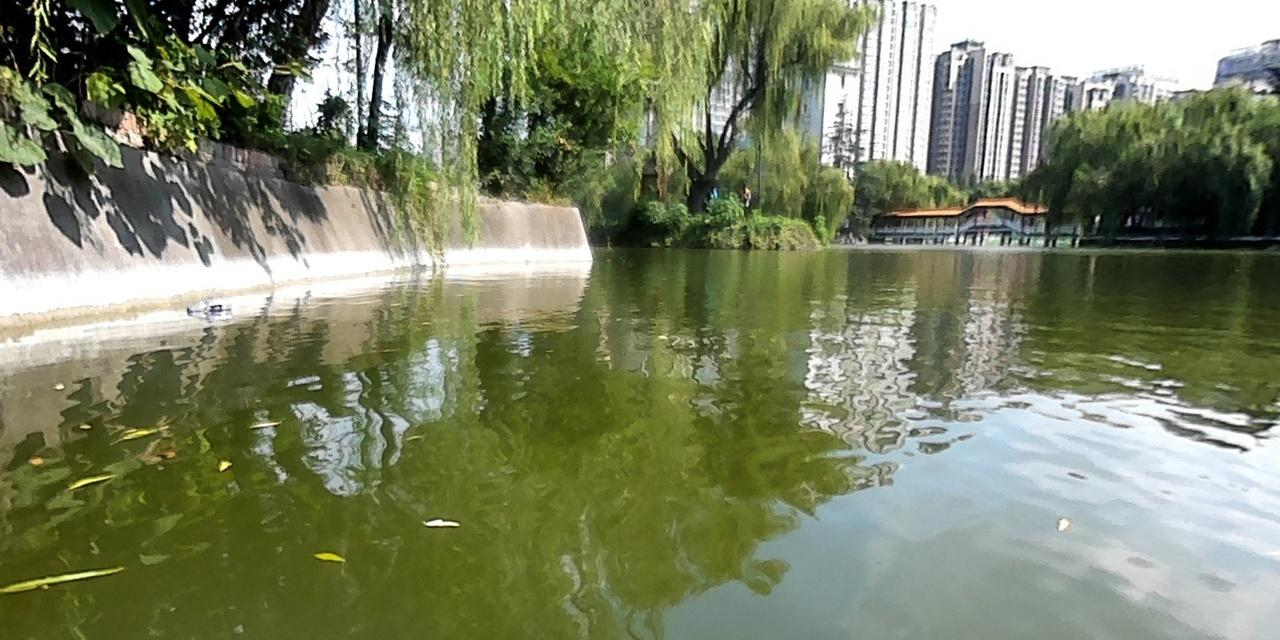bottle: (188, 297, 233, 316)
